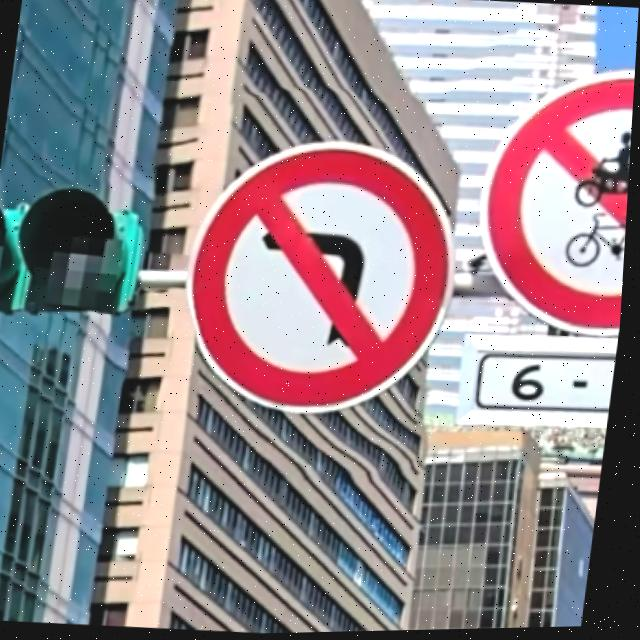noturnleft: (193, 145, 453, 409)
